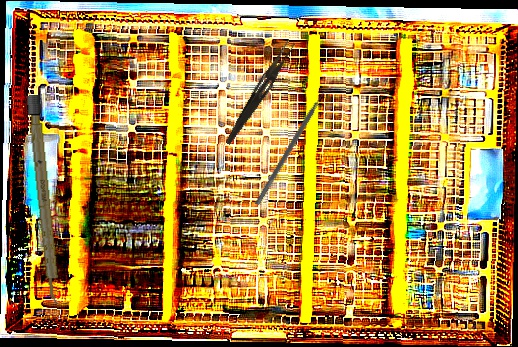Dressing Forceps: (223, 36, 297, 149)
Scalpel Handle: (26, 94, 62, 305)
Spatula Surgical: (254, 84, 333, 209)
